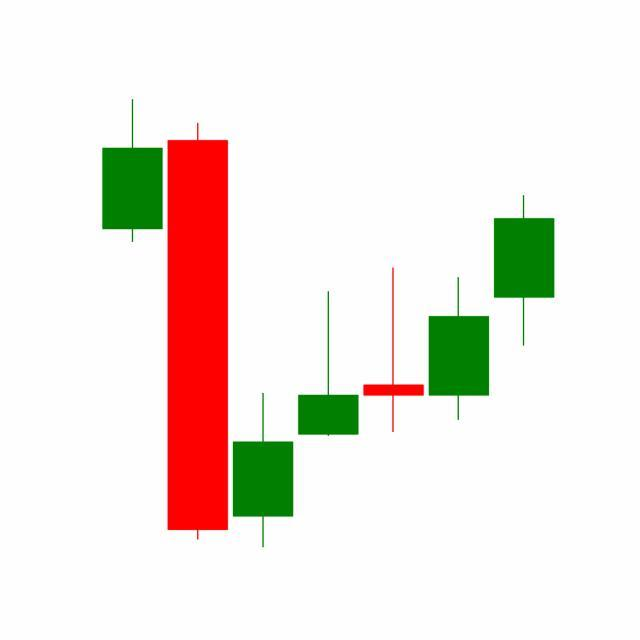Hikkake Pattern: (229, 191, 555, 549)
